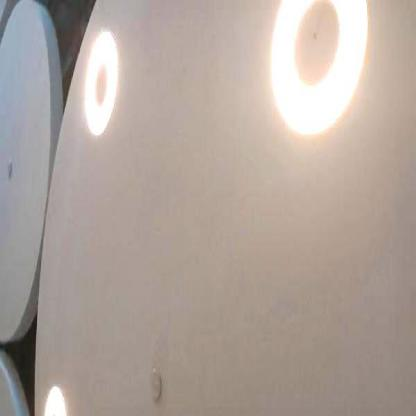light_on: (260, 0, 375, 153), (81, 13, 126, 138), (40, 364, 72, 415)
